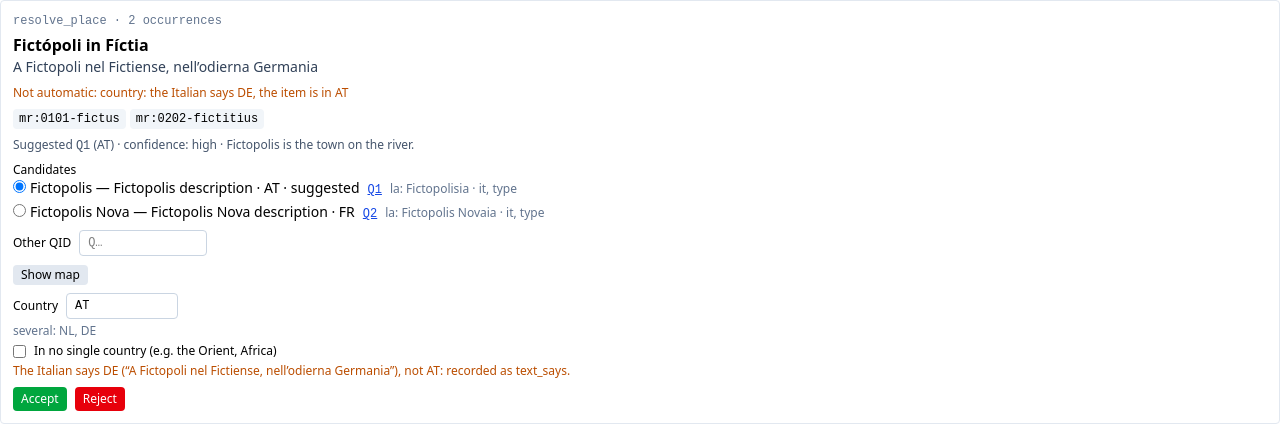
PlaceCard › an invalid country code disables accept
Replace the text in the field labelled "Country" with "AUT" at coordinates (122, 306), box [66, 293, 178, 319]
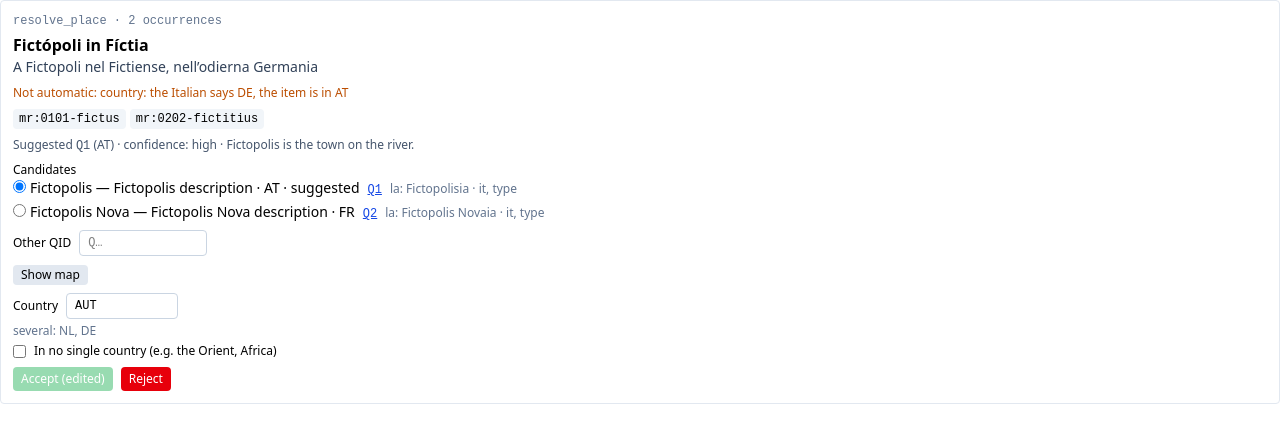
Result: the button "Accept (edited)" is disabled at [13, 367, 113, 391]
